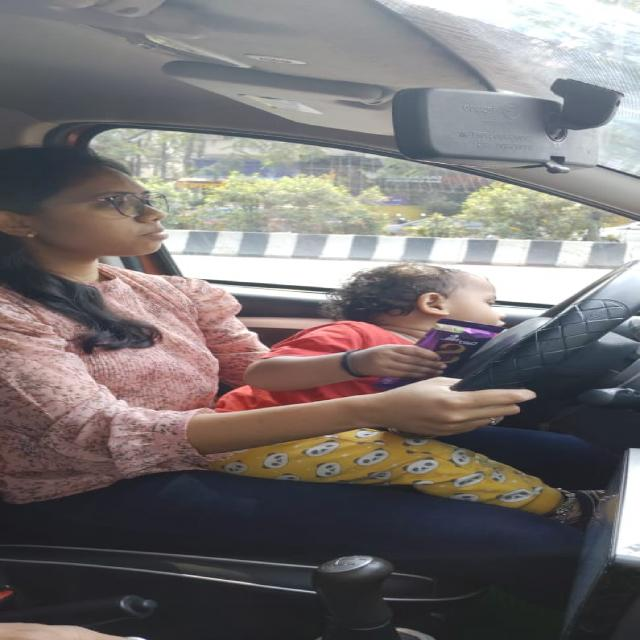child: (307, 252, 532, 331)
person: (0, 141, 200, 284)
